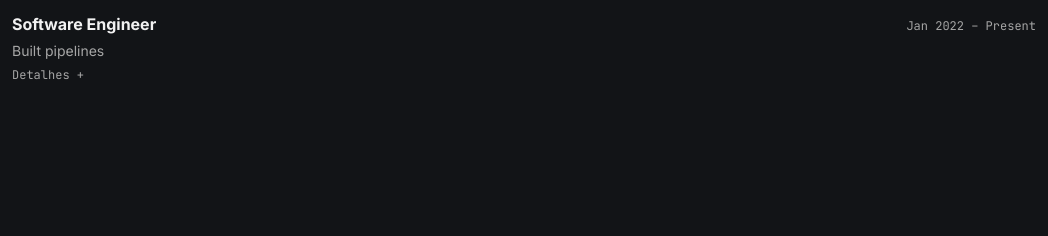
RoleCollapsible › starts closed by default and toggle opens it
The width and height of the screenshot is (1048, 236).
expect the text "Built pipelines" is shown: met, box [12,42,104,59]
expect the text "Led migrations" is not shown: met
Note: Click the trigger button to open
Click the button at (48, 75), box [12,67,84,83]
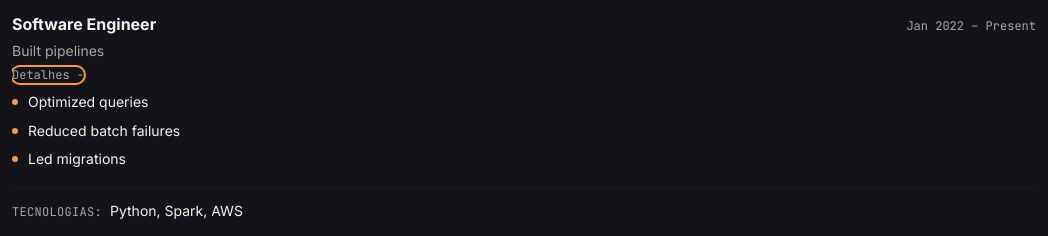
expect the text "Built pipelines" is shown: met, box [12,42,104,59]
expect the text "Python, Spark, AWS" is shown: met, box [110,202,243,219]
